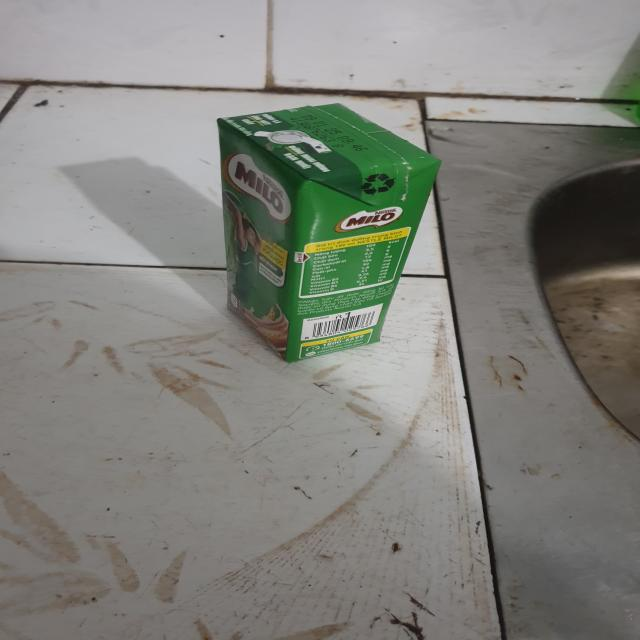Milo: (215, 103, 445, 367)
